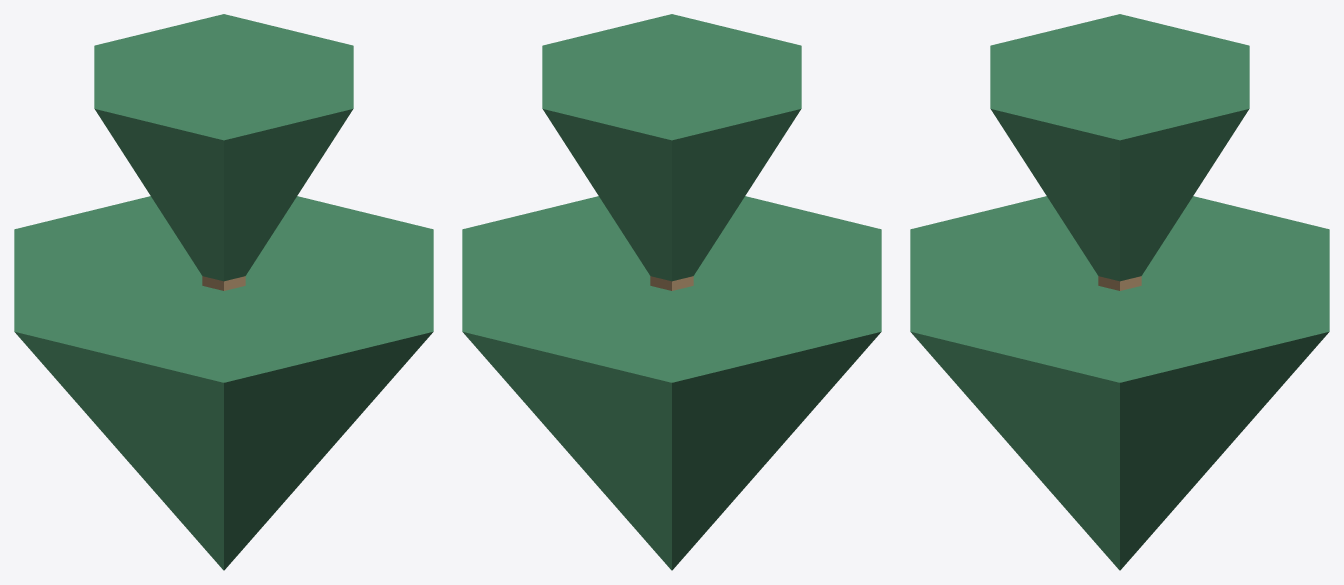
File: forest-lod-far-conifer.glb
3 views of the same model, side by side, from view 1: azimuth 30°, elevation 25°; view 2: azimuth 150°, elevation 25°; view 3: azimuth 270°, elevation 25° (orthographic).
Parts seen in each view (by area): view 1: crown0, crown1; view 2: crown0, crown1; view 3: crown0, crown1.
Part boxes in pixels (x1,y1,x2,y2): crown0: (14,196,433,570); crown1: (94,14,353,281); crown0: (462,196,881,570); crown1: (542,14,801,281); crown0: (910,196,1329,570); crown1: (990,14,1249,281).
Bounding box in the file's own units: 1.36 × 1.53 × 1.18.
